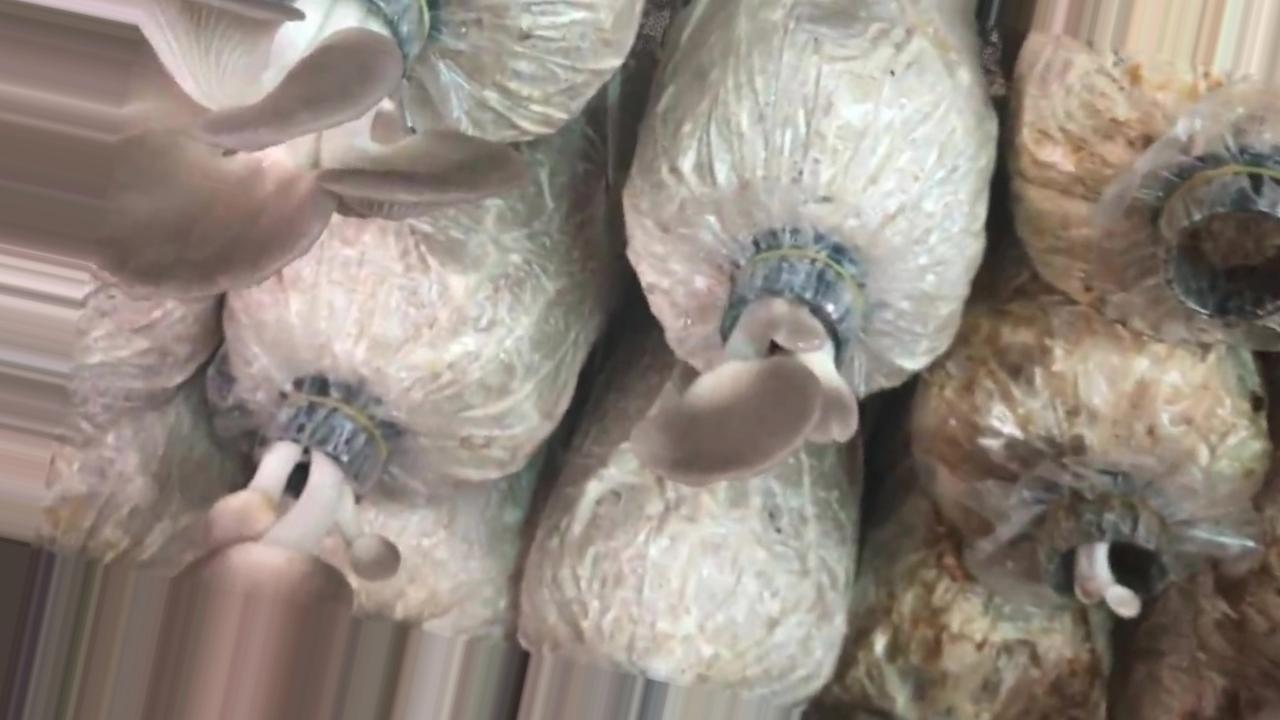nam: (1, 1, 534, 303), (145, 384, 409, 720), (636, 255, 856, 489), (1032, 502, 1171, 628)
